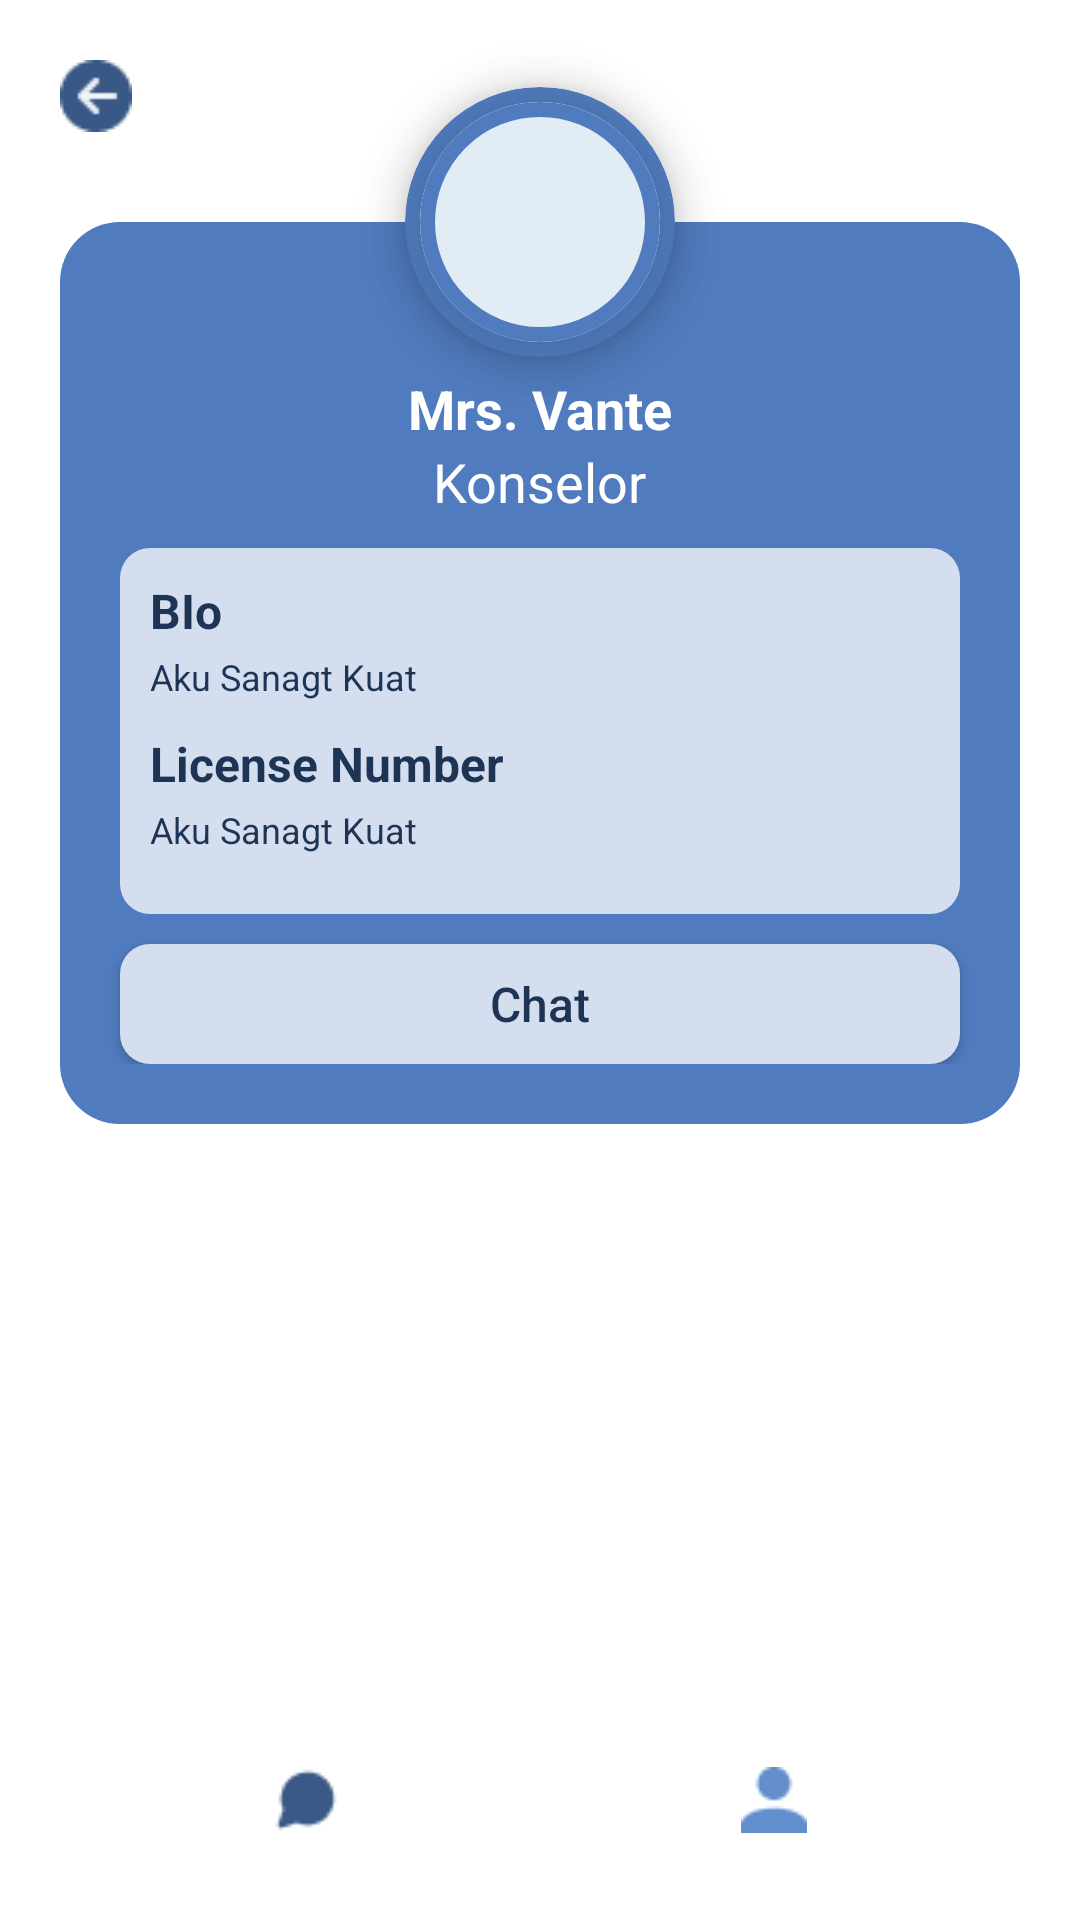

Screen size 1080px x 1920px. Icon name, then its box in pixels as rect(x1, y1, x2, y2):
back: rect(60, 60, 132, 132)
Chat: rect(276, 1770, 336, 1830)
Profile: rect(741, 1767, 807, 1833)
